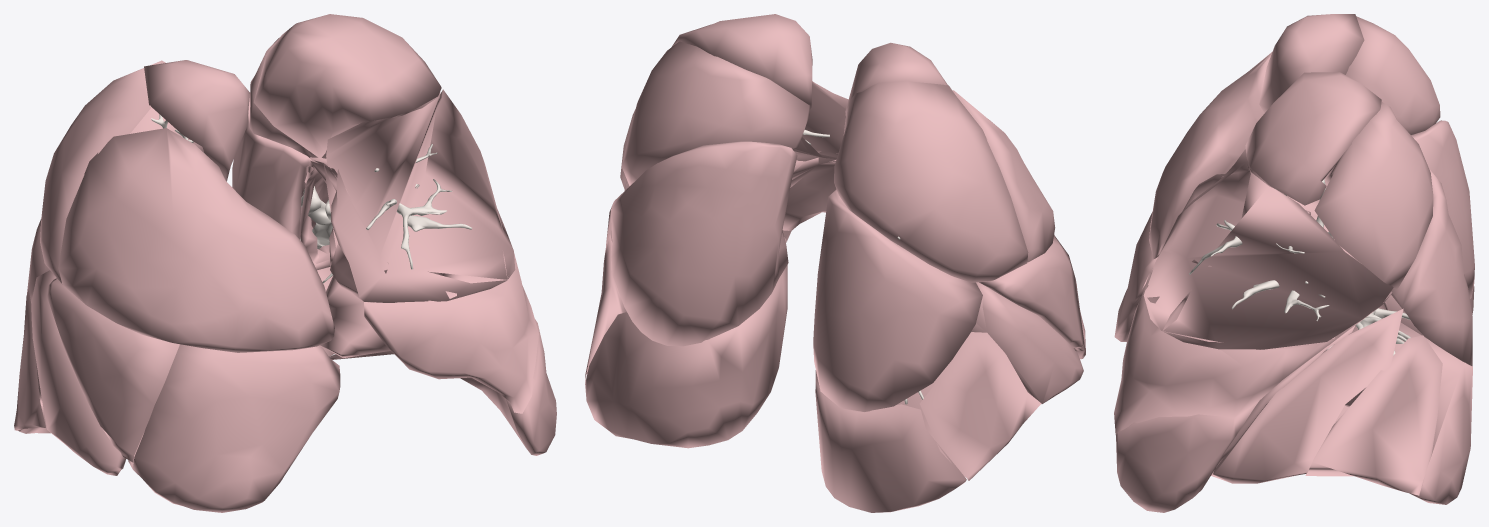
Rendered from 3d-vh-m-lung_lod_20.glb.
The picture shows the model from 3 angles, left to right: view 1: azimuth 30°, elevation 25°; view 2: azimuth 150°, elevation 25°; view 3: azimuth 270°, elevation 25°; orthographic projection. The views are drawn at different scales.
Parts seen in each view (by area): view 1: VH_M_right_anterior_bronchopulmonary_segment, VH_M_left_anterior_bronchopulmonary_segment, VH_M_right_medial_bronchopulmonary_segment, VH_M_left_apical_bronchopulmonary_segment, VH_M_left_lingula_superior_bronchopulmonary_segment, VH_M_right_lateral_bronchopulmonary_segment, VH_M_right_posterior_bronchopulmonary_segment, VH_M_right_apical_bronchopulmonary_segment, VH_M_right_anterior_basal_bronchopulmonary_segment, VH_M_left_superior_bronchopulmonary_segment, VH_M_left_lingula_inferior_bronchopulmonary_segment, VH_M_left_medial_basal_bronchopulmonary_segment (+6 smaller); view 2: VH_M_left_superior_bronchopulmonary_segment, VH_M_right_posterior_bronchopulmonary_segment, VH_M_right_superior_bronchopulmonary_segment, VH_M_left_posetrior_basal_bronchopulmonary_segment, VH_M_left_posterior_bronchopulmonary_segment, VH_M_right_posterior_basal_bronchopulmonary_segment, VH_M_right_lateral_basal_bronchopulmonary_segment, VH_M_left_apical_bronchopulmonary_segment, VH_M_right_anterior_basal_bronchopulmonary_segment, VH_M_right_lateral_bronchopulmonary_segment, VH_M_right_anterior_bronchopulmonary_segment, VH_M_left_anterior_bronchopulmonary_segment (+3 smaller); view 3: VH_M_left_anterior_bronchopulmonary_segment, VH_M_left_lingula_superior_bronchopulmonary_segment, VH_M_left_posterior_bronchopulmonary_segment, VH_M_left_anterior_basal_bronchopulmonary_segment, VH_M_left_lateral_basal_bronchopulmonary_segment, VH_M_left_apical_bronchopulmonary_segment, VH_M_left_lingula_inferior_bronchopulmonary_segment, VH_M_right_anterior_bronchopulmonary_segment, VH_M_left_superior_bronchopulmonary_segment, VH_M_left_posetrior_basal_bronchopulmonary_segment, VH_M_right_posterior_bronchopulmonary_segment, VH_M_right_apical_bronchopulmonary_segment (+4 smaller).
Boxes of the visible parts, bbox=[...] form: VH_M_right_anterior_bronchopulmonary_segment: bbox=[58, 128, 334, 352]; VH_M_left_anterior_bronchopulmonary_segment: bbox=[326, 89, 515, 302]; VH_M_right_medial_bronchopulmonary_segment: bbox=[128, 344, 340, 512]; VH_M_left_apical_bronchopulmonary_segment: bbox=[253, 14, 441, 158]; VH_M_left_lingula_superior_bronchopulmonary_segment: bbox=[364, 252, 538, 413]; VH_M_right_lateral_bronchopulmonary_segment: bbox=[47, 278, 179, 462]; VH_M_right_posterior_bronchopulmonary_segment: bbox=[40, 60, 203, 283]; VH_M_right_apical_bronchopulmonary_segment: bbox=[144, 60, 249, 181]; VH_M_right_anterior_basal_bronchopulmonary_segment: bbox=[31, 270, 125, 475]; VH_M_left_superior_bronchopulmonary_segment: bbox=[232, 92, 327, 239]; VH_M_left_lingula_inferior_bronchopulmonary_segment: bbox=[330, 243, 556, 455]; VH_M_left_medial_basal_bronchopulmonary_segment: bbox=[320, 276, 390, 358]; VH_M_left_superior_bronchopulmonary_segment: bbox=[611, 141, 797, 346]; VH_M_right_posterior_bronchopulmonary_segment: bbox=[834, 81, 1028, 282]; VH_M_right_superior_bronchopulmonary_segment: bbox=[813, 189, 982, 411]; VH_M_left_posetrior_basal_bronchopulmonary_segment: bbox=[585, 265, 787, 448]; VH_M_left_posterior_bronchopulmonary_segment: bbox=[621, 41, 809, 185]; VH_M_right_posterior_basal_bronchopulmonary_segment: bbox=[815, 370, 966, 512]; VH_M_right_lateral_basal_bronchopulmonary_segment: bbox=[897, 332, 1041, 480]; VH_M_left_apical_bronchopulmonary_segment: bbox=[672, 14, 812, 110]; VH_M_right_anterior_basal_bronchopulmonary_segment: bbox=[950, 282, 1083, 403]; VH_M_right_lateral_bronchopulmonary_segment: bbox=[979, 235, 1084, 348]; VH_M_right_anterior_bronchopulmonary_segment: bbox=[952, 90, 1055, 262]; VH_M_left_anterior_bronchopulmonary_segment: bbox=[620, 81, 848, 190]; VH_M_left_anterior_bronchopulmonary_segment: bbox=[1143, 149, 1393, 349]; VH_M_left_lingula_superior_bronchopulmonary_segment: bbox=[1114, 259, 1392, 434]; VH_M_left_posterior_bronchopulmonary_segment: bbox=[1314, 102, 1433, 288]; VH_M_left_anterior_basal_bronchopulmonary_segment: bbox=[1211, 308, 1403, 483]; VH_M_left_lateral_basal_bronchopulmonary_segment: bbox=[1305, 335, 1442, 495]; VH_M_left_apical_bronchopulmonary_segment: bbox=[1245, 72, 1381, 205]; VH_M_left_lingula_inferior_bronchopulmonary_segment: bbox=[1116, 349, 1260, 512]; VH_M_right_anterior_bronchopulmonary_segment: bbox=[1149, 52, 1272, 259]; VH_M_left_superior_bronchopulmonary_segment: bbox=[1385, 168, 1472, 366]; VH_M_left_posetrior_basal_bronchopulmonary_segment: bbox=[1322, 322, 1472, 504]; VH_M_right_posterior_bronchopulmonary_segment: bbox=[1346, 16, 1440, 134]; VH_M_right_apical_bronchopulmonary_segment: bbox=[1259, 14, 1364, 112].
Size of the model in its own units: 0.2593 by 0.229 by 0.1898.
